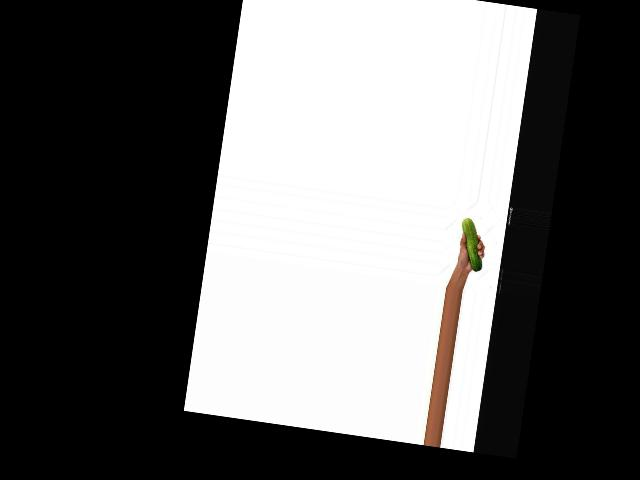cucumber: (455, 218, 488, 272)
